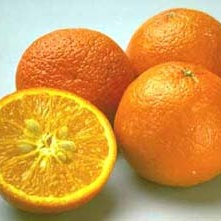mandarin: (1, 88, 118, 213), (114, 61, 221, 191), (17, 27, 137, 139), (125, 7, 221, 80)
